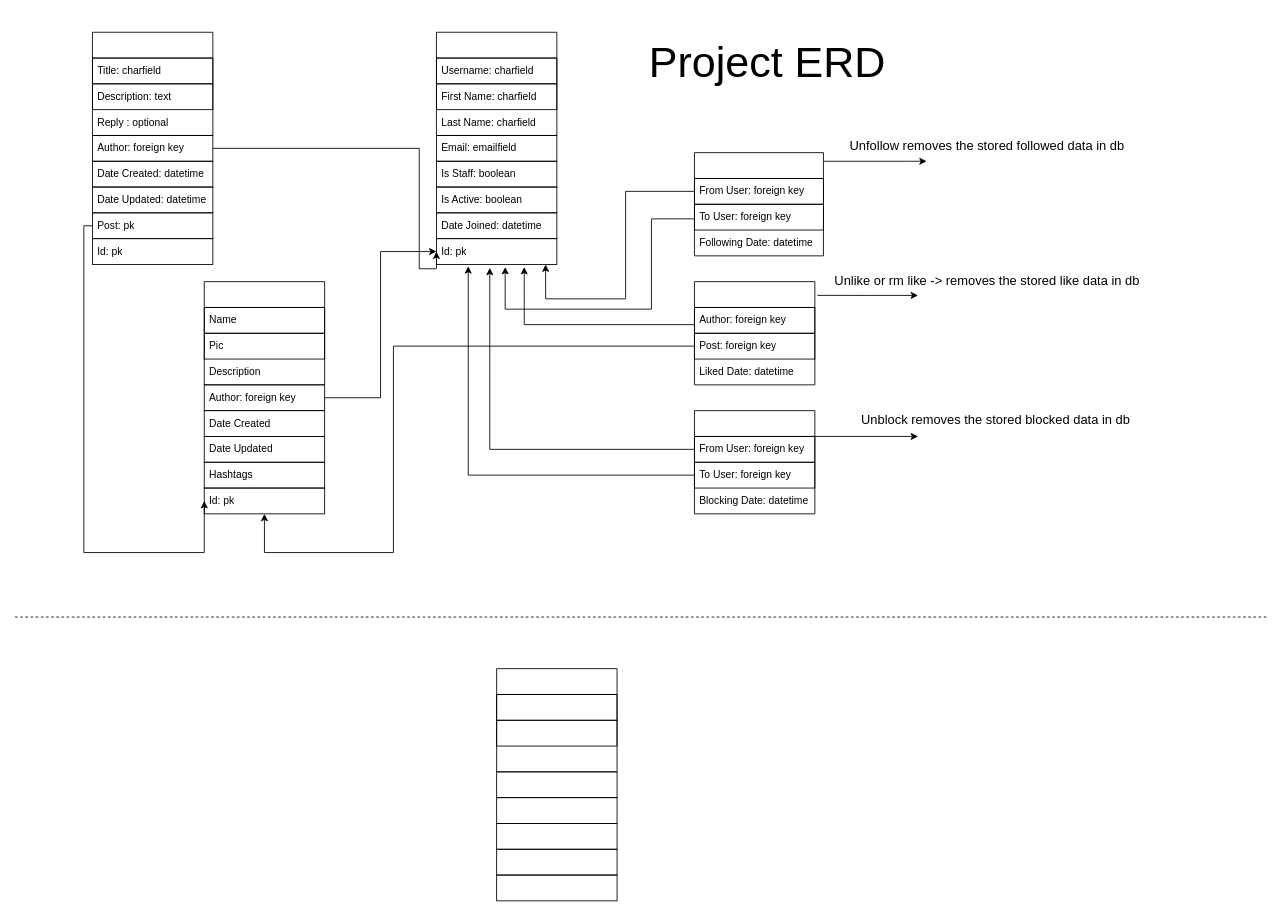
The diagram is 1283 pixels wide and 916 high, and some of its shapes have lost their labels. Here are the shapes that lost their labels. From the top down, the box of each, then its label:
(92, 31, 213, 135): Comment Model
(436, 31, 557, 135): User Model
(694, 152, 823, 256): Follow Model
(203, 281, 325, 385): Post Model
(694, 281, 815, 385): Like Model
(694, 410, 815, 514): Block Model
(496, 668, 617, 772): Log System
